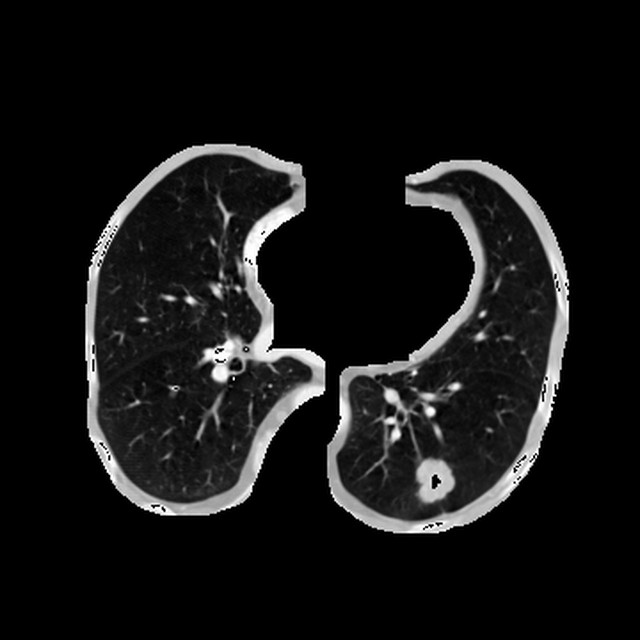PN: (411, 459, 453, 501)
